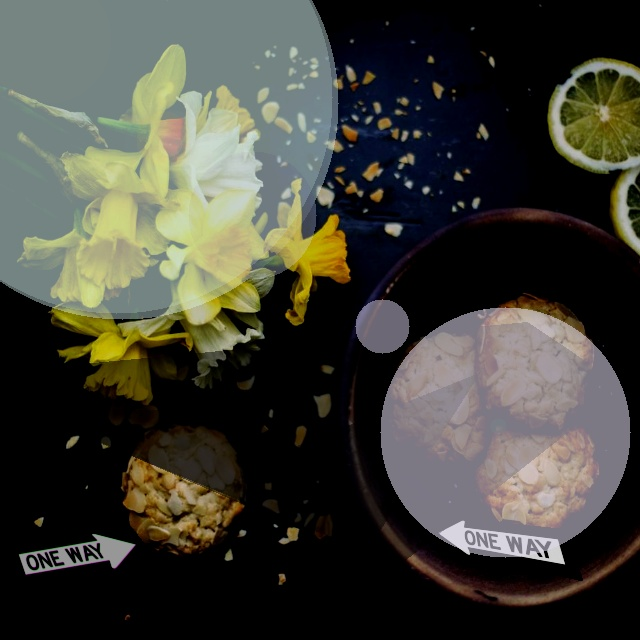ONE_WAY_ left: (430, 515, 583, 581)
ONE_WAY_ right: (8, 525, 161, 588)
